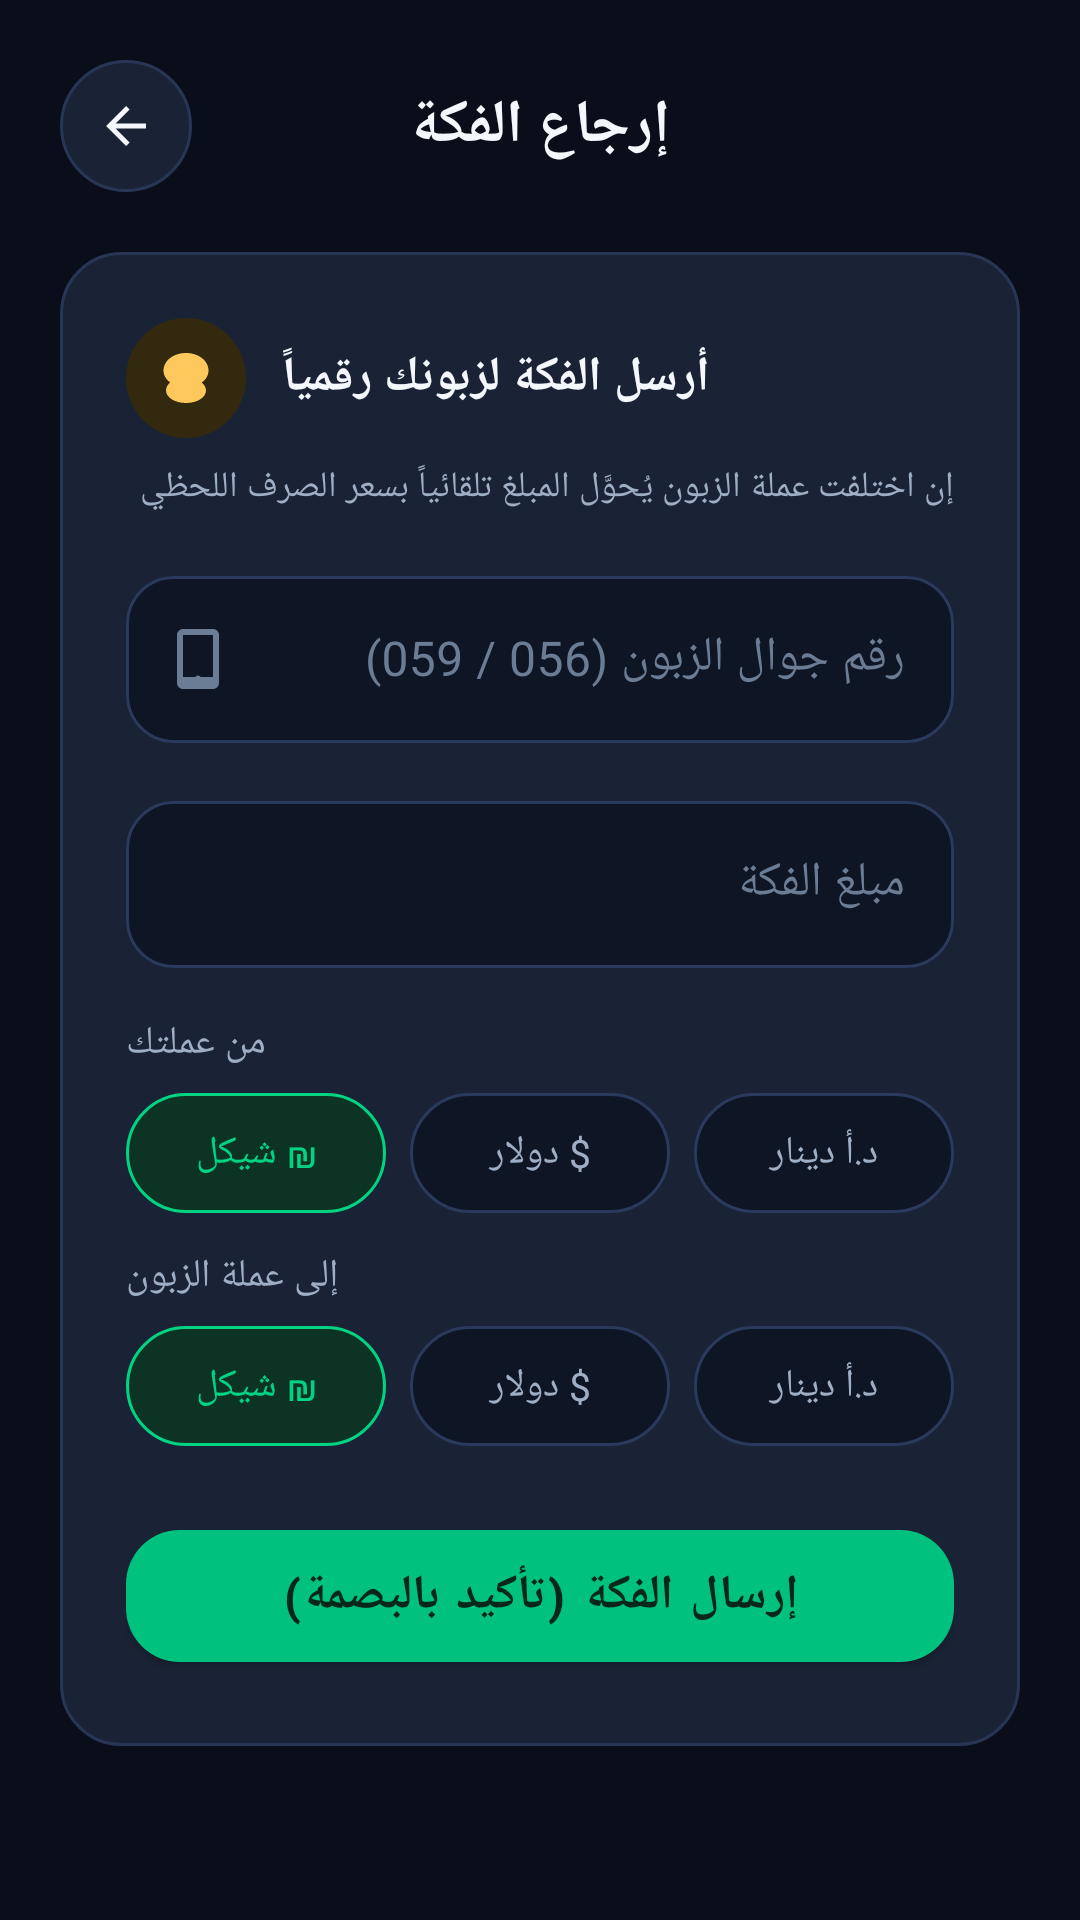

Icons on this 1080×1920 Android screen, each with the point to tap as [x,y]:
رجوع: [126,126]
